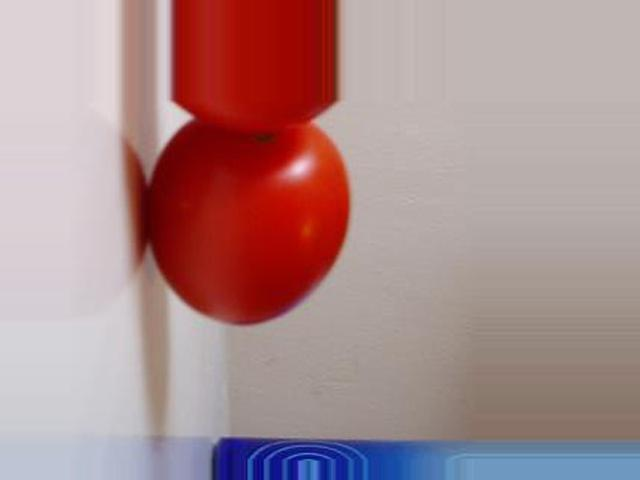tomato: (144, 122, 348, 324)
